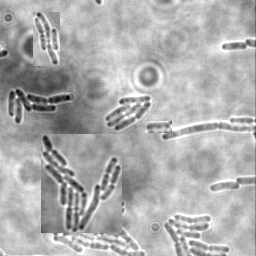Dividing: (161, 123, 255, 142), (221, 41, 248, 52)
Microcolony: (41, 134, 122, 233), (51, 200, 147, 255), (162, 212, 231, 255), (8, 89, 72, 126), (106, 96, 153, 132), (33, 12, 60, 66), (208, 182, 240, 193)
Rod: (145, 121, 172, 133)
